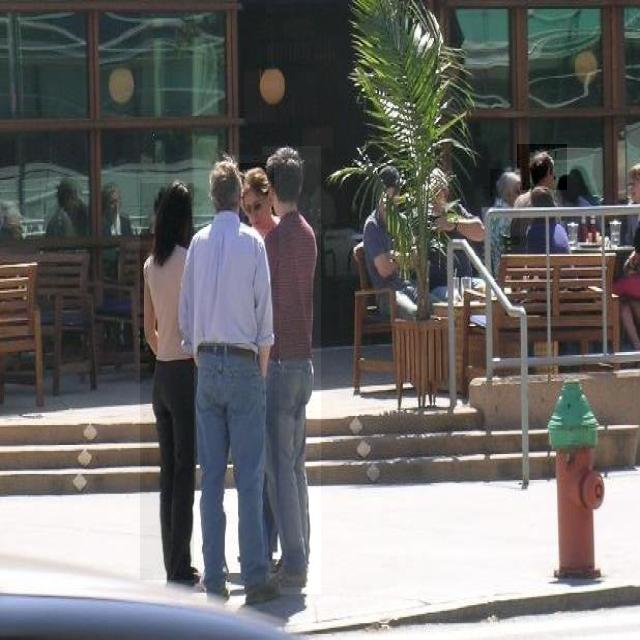with scooter: (180, 155, 279, 605), (262, 146, 321, 594), (140, 183, 194, 580), (239, 163, 274, 229), (517, 144, 567, 190), (490, 169, 520, 245)
